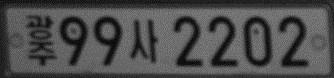0: (242, 15, 273, 67)
2: (172, 15, 203, 68), (278, 14, 309, 67), (207, 15, 238, 66)
9: (92, 15, 123, 66), (58, 15, 88, 66)
광주_V: (24, 14, 58, 66)
사: (129, 18, 159, 63)
